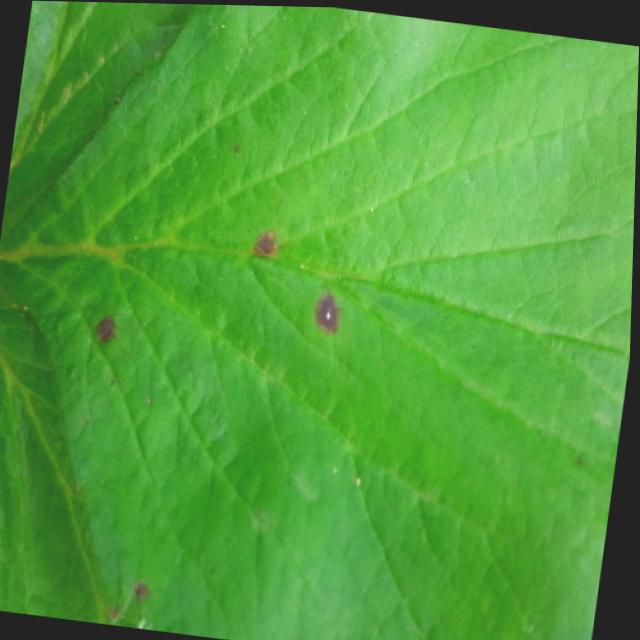Leaf Spot: (0, 3, 639, 640)
